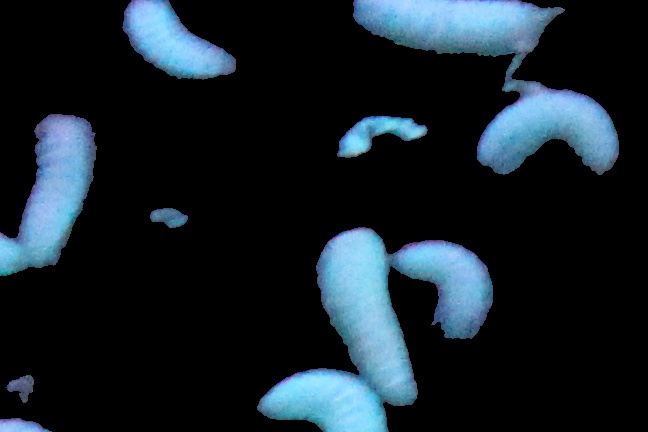larvae: (320, 228, 413, 406), (477, 93, 616, 177), (345, 1, 555, 56), (20, 113, 97, 256), (107, 1, 239, 84), (399, 242, 488, 345), (252, 366, 386, 432)
